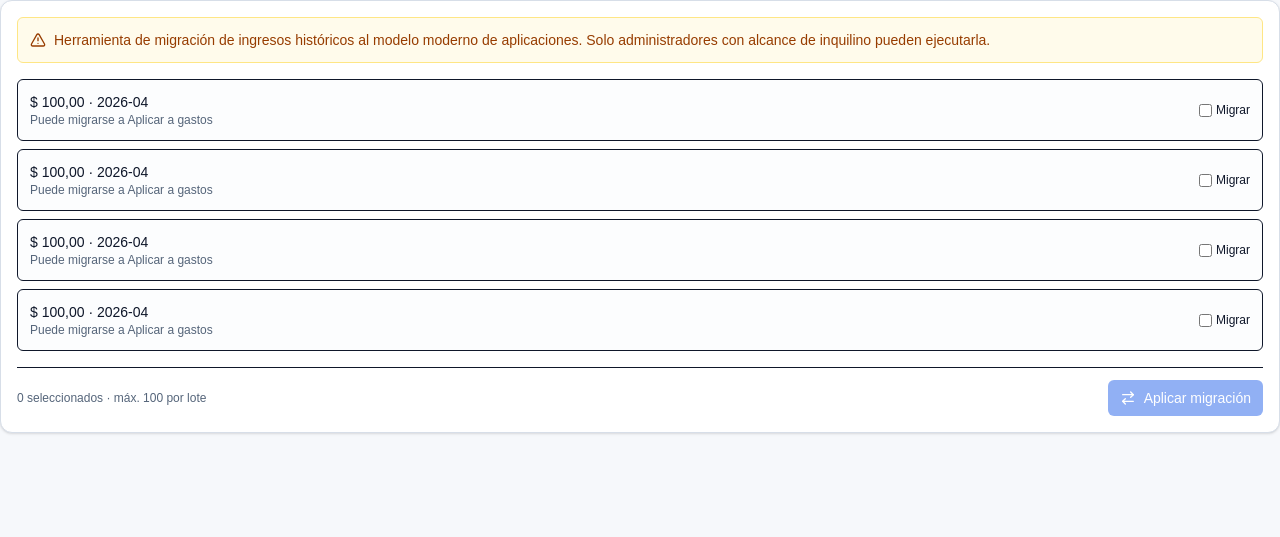
LegacyBackfillPanel › summarizes a mixed batch result without collapsing into success/failure
This screenshot has width=1280, height=537.
Click the 1st checkbox labelled "Migrar" at (1206, 110), box [1199,104,1212,116]
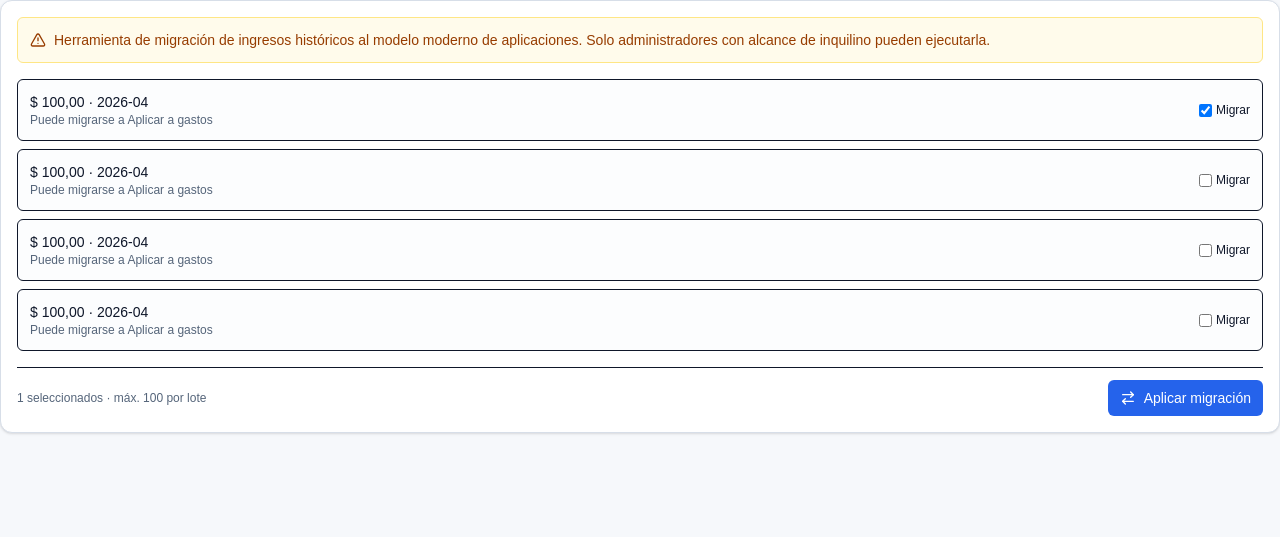
Click the 2nd checkbox labelled "Migrar" at (1206, 180), box [1199,174,1212,186]
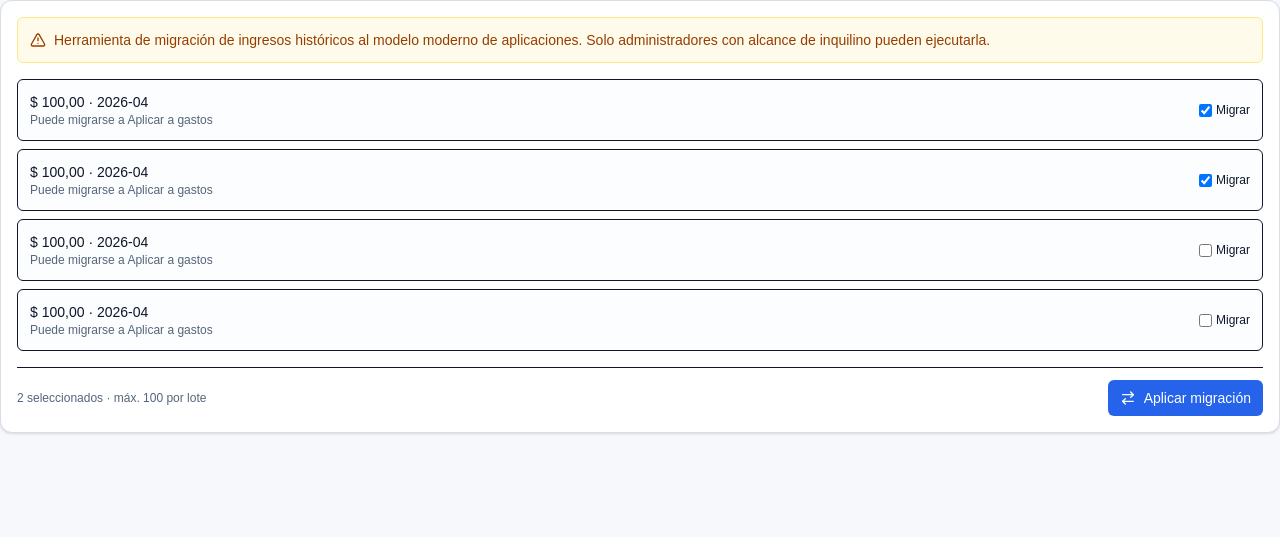
Click the 3rd checkbox labelled "Migrar" at (1206, 250), box [1199,244,1212,256]
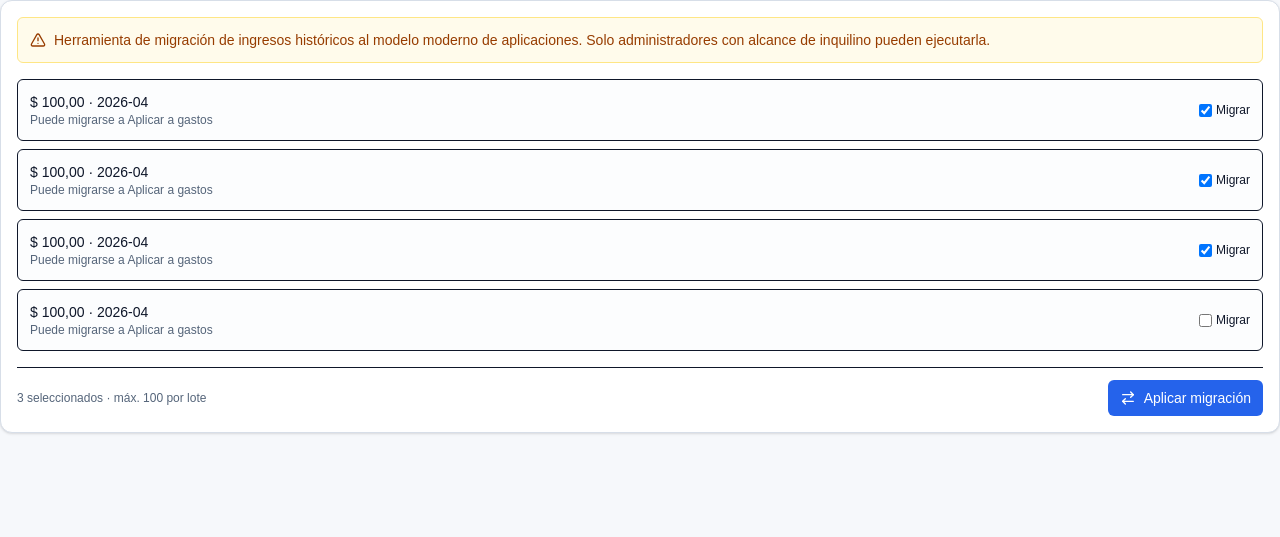
Click the 4th checkbox labelled "Migrar" at (1206, 320), box [1199,314,1212,326]
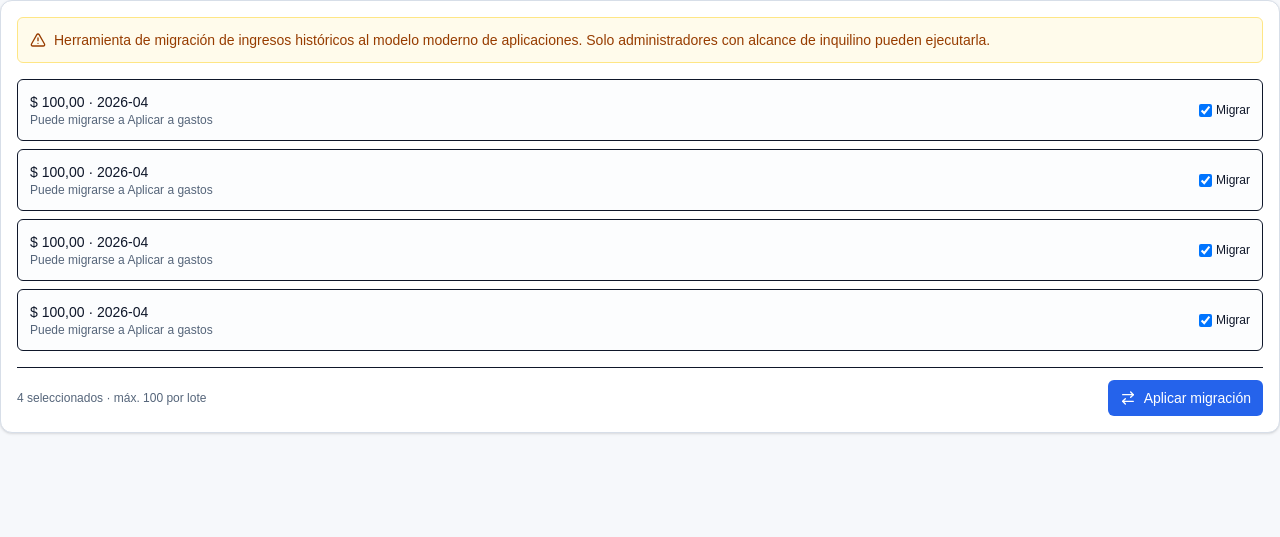
Click the button "Aplicar migración" at (1185, 398), box [1108,380,1263,416]
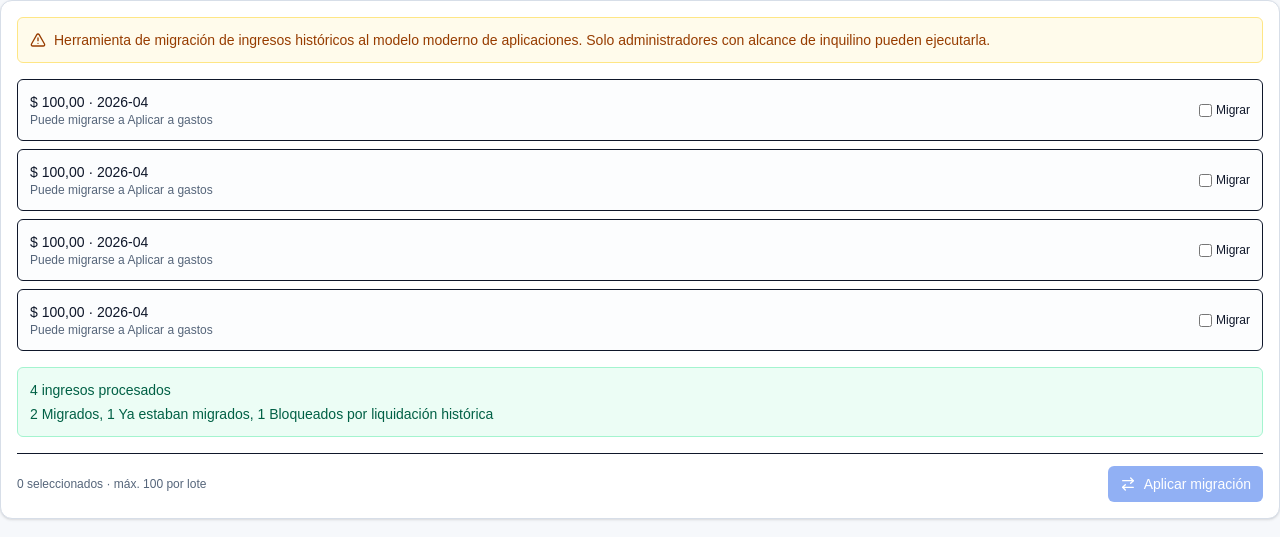
Check: the text "4 ingresos procesados" is shown, box [30,382,171,398]
Check: the text "1 Bloqueados por liquidación histórica" is shown, box [30,406,493,422]
